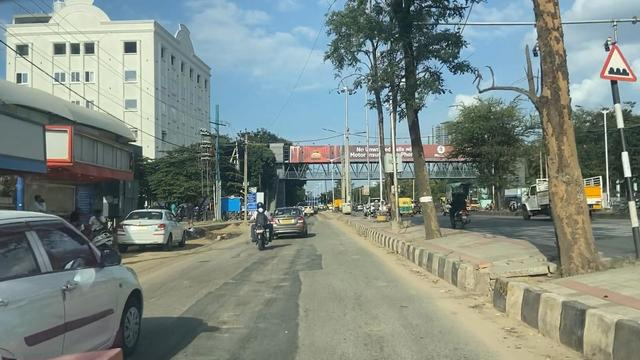LMV: (121, 207, 183, 247), (253, 202, 270, 253)
UnsurfacedRoad: (161, 292, 316, 349), (219, 260, 322, 286)
